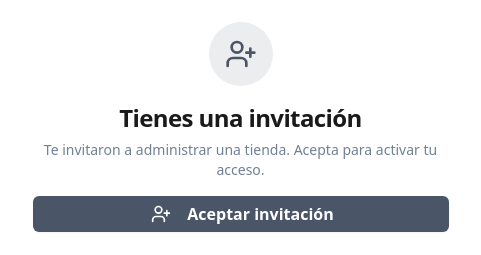
Scenario: AcceptMembershipCard (B5) › announces each outcome swap as a live region and moves focus to its heading
Click the button "Aceptar invitación": click(240, 214) [32, 196, 448, 232]
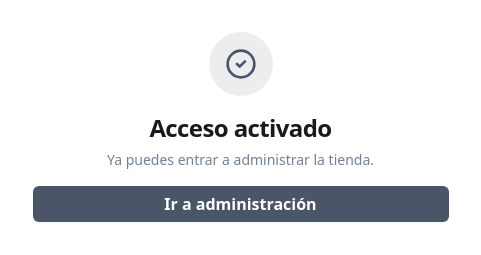
Now the message "Acceso activado" is shown
